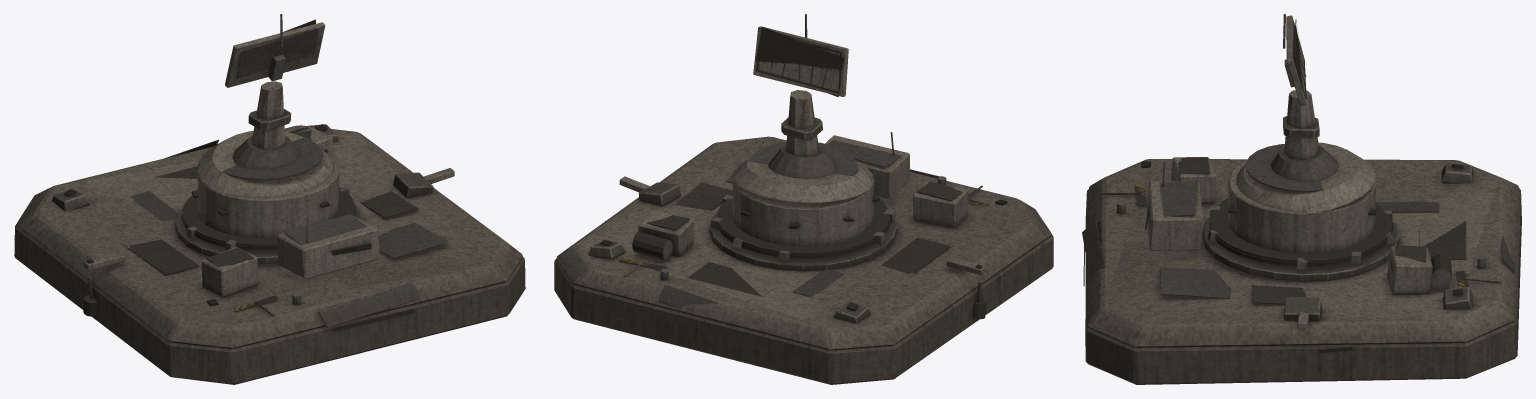
Rendered from ord_choir_wreck.fbx.
3 renders of one model, left to right at view 1: azimuth 30°, elevation 25°; view 2: azimuth 150°, elevation 25°; view 3: azimuth 270°, elevation 25°, orthographic. The views are drawn at different scales.
Parts seen in each view (by area): view 1: base_bar, ring_bar; view 2: base_bar, ring_bar; view 3: base_bar, ring_bar.
Part boxes in pixels (left/top/right/bottom): base_bar: left=14, top=14, right=525, bottom=384; ring_bar: left=181, top=187, right=355, bottom=250; base_bar: left=554, top=14, right=1053, bottom=384; ring_bar: left=711, top=194, right=895, bottom=261; base_bar: left=1082, top=14, right=1521, bottom=384; ring_bar: left=1207, top=198, right=1394, bottom=270.
Size of the model in its own units: 2333 by 1723 by 2271.
2 materials, 2 textured.
